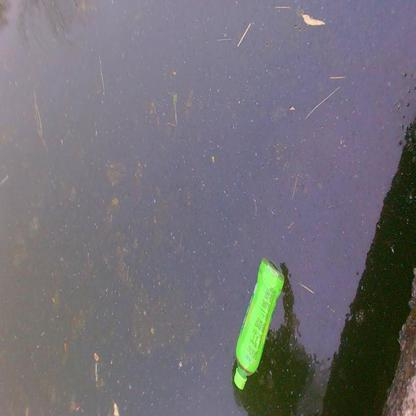plastic bottle: (233, 257, 284, 390)
